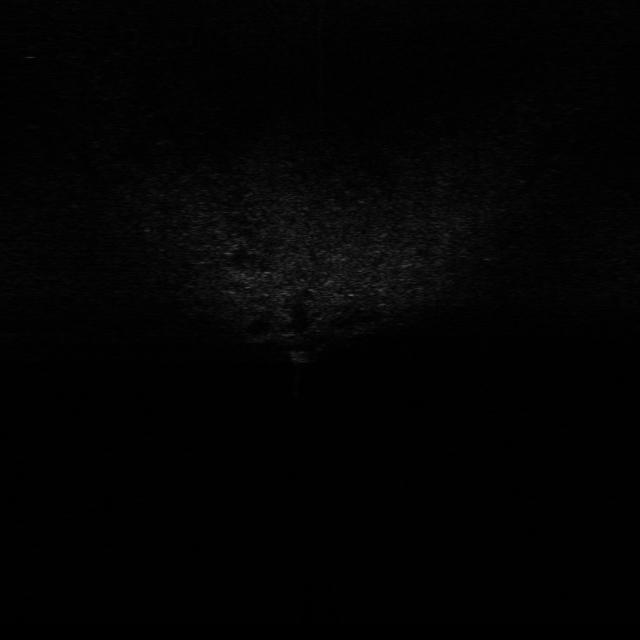cube: (284, 346, 320, 366)
